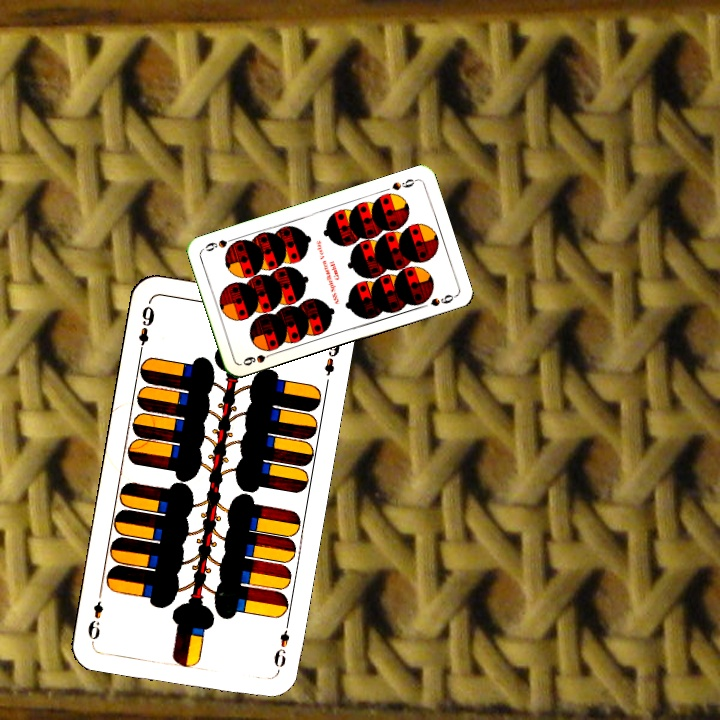E9: (269, 616, 292, 675), (134, 302, 157, 358)
S9: (239, 348, 278, 368), (388, 175, 420, 193)
